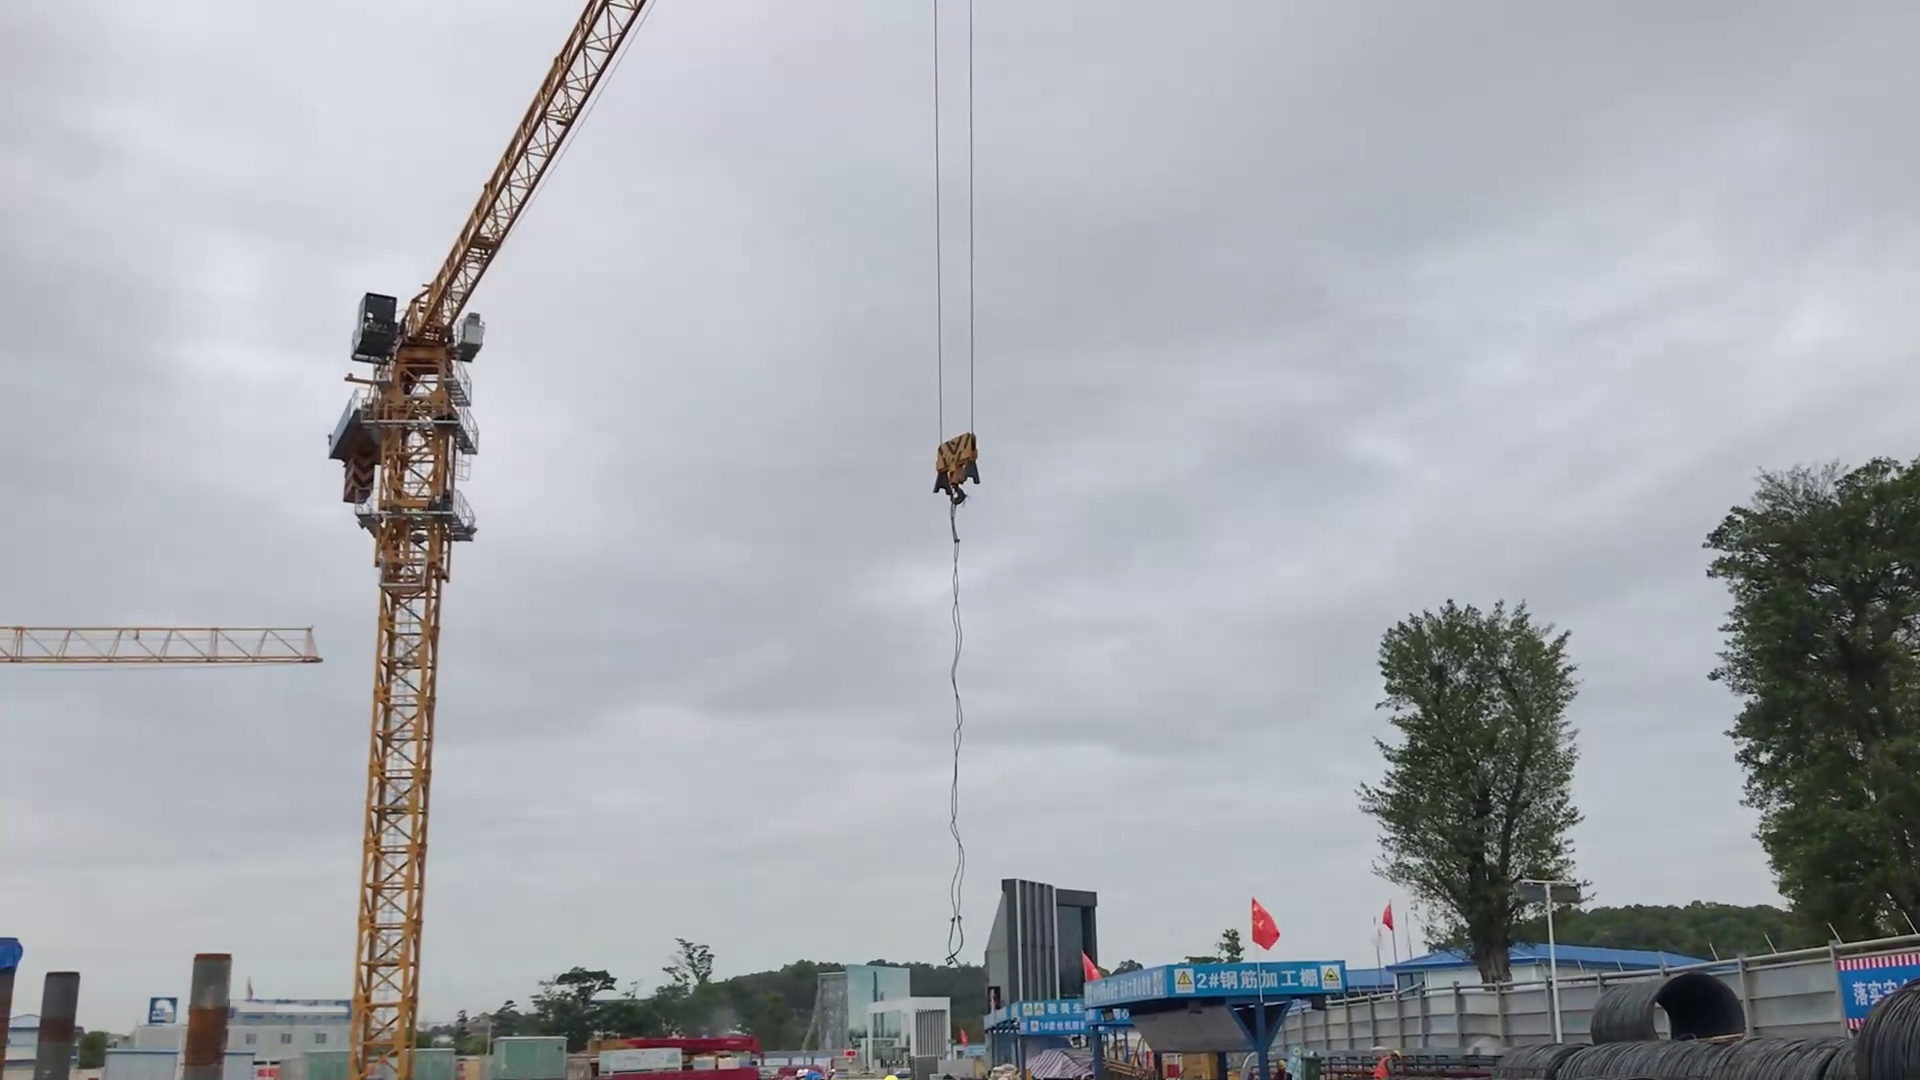hook: (920, 426, 993, 512)
